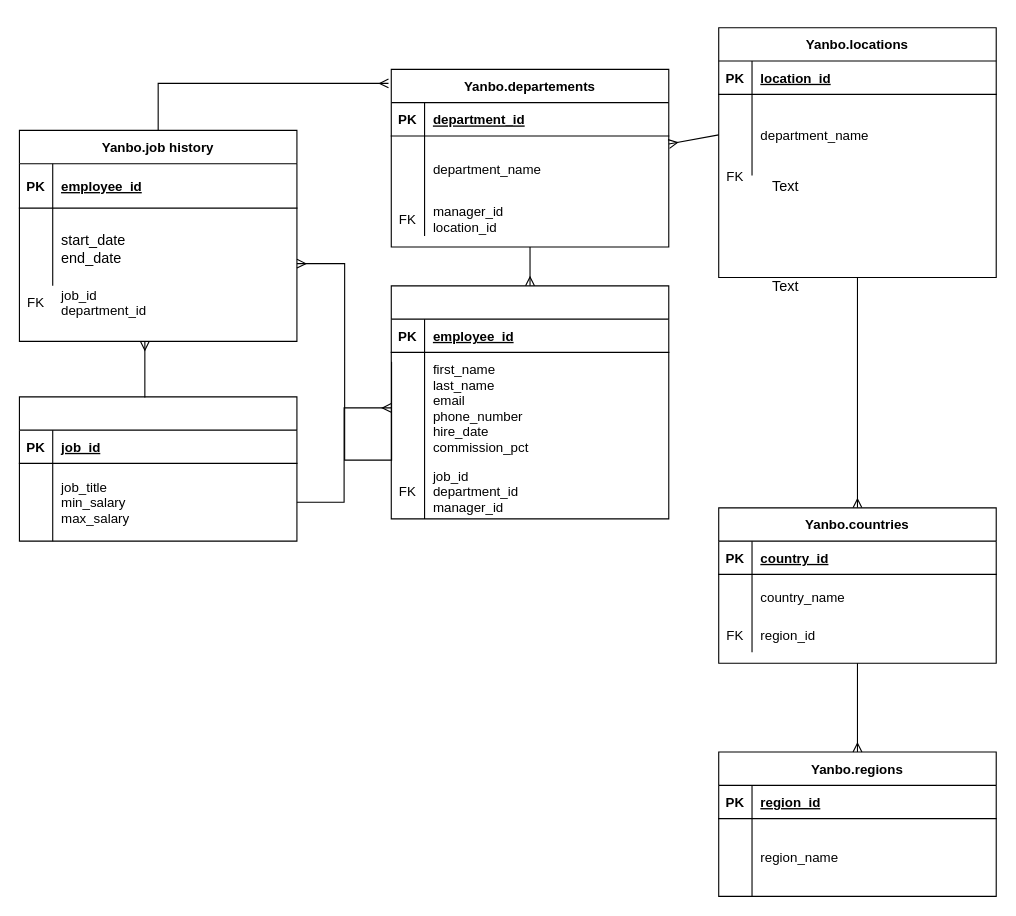
This 1016x916 diagram has some shape labels left out. The box of each missing label's shape, as (x1, y1, x2, y2) in pixels:
Yanbo.employees: (390, 285, 669, 519)
Yanbo.jobs: (18, 396, 297, 541)
